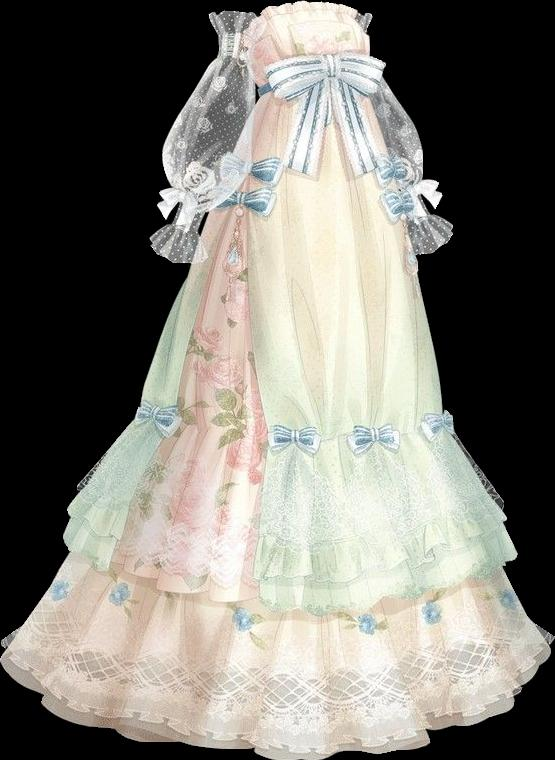Bodice: (239, 1, 372, 94)
Hemline: (60, 129, 515, 615), (0, 635, 554, 759), (56, 539, 517, 617)
Neckline: (237, 0, 367, 38)
Skirt: (1, 83, 553, 759)
Sleeve: (149, 10, 271, 264)
Sleeveline: (245, 17, 272, 79), (175, 193, 211, 210), (217, 48, 250, 65), (171, 218, 201, 234)
Waistline: (258, 77, 370, 98)
